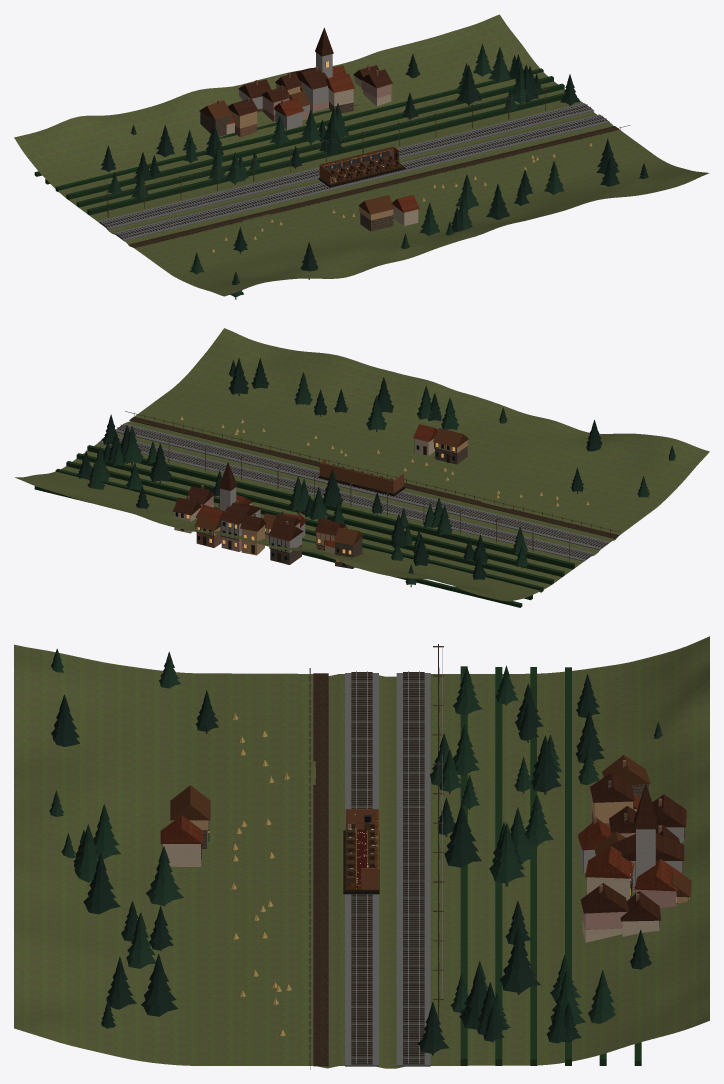
Rendered from passenger_car.glb.
3 renders of one model, top to bottom at view 1: azimuth 30°, elevation 25°; view 2: azimuth 150°, elevation 25°; view 3: azimuth 270°, elevation 25°, orthographic. The views are drawn at different scales.
Visible parts, largest first — view 1: Country ground, Country trees, Country track, Country roofs, Country walls, Country ground.001, Country trim, Car shell, Furniture; view 2: Country ground, Country trees, Country track, Country roofs, Country walls, Country trim, Country ground.001, Car shell; view 3: Country ground, Country trees, Country track, Country roofs, Country ground.001, Country walls, Country trim, Car shell, Furniture.
Boxes of the visible parts, x1=… form: Country ground: x1=14, y1=14, x2=709, y2=296; Country trees: x1=34, y1=44, x2=648, y2=299; Country track: x1=98, y1=103, x2=609, y2=240; Country roofs: x1=199, y1=27, x2=419, y2=214; Country walls: x1=200, y1=52, x2=418, y2=231; Country ground.001: x1=129, y1=126, x2=619, y2=247; Country trim: x1=106, y1=61, x2=629, y2=252; Car shell: x1=318, y1=146, x2=405, y2=187; Furniture: x1=323, y1=147, x2=399, y2=183; Country ground: x1=15, y1=328, x2=709, y2=601; Country trees: x1=34, y1=358, x2=675, y2=607; Country track: x1=98, y1=423, x2=609, y2=561; Country roofs: x1=173, y1=424, x2=468, y2=547; Country walls: x1=174, y1=438, x2=467, y2=568; Country trim: x1=125, y1=411, x2=620, y2=566; Country ground.001: x1=129, y1=417, x2=619, y2=538; Car shell: x1=318, y1=459, x2=405, y2=496; Country ground: x1=14, y1=636, x2=709, y2=1068; Country trees: x1=49, y1=648, x2=662, y2=1065; Country track: x1=345, y1=671, x2=430, y2=1066; Country roofs: x1=160, y1=755, x2=691, y2=921; Country ground.001: x1=313, y1=673, x2=328, y2=1066; Country walls: x1=162, y1=784, x2=688, y2=942; Country trim: x1=201, y1=644, x2=689, y2=1069; Car shell: x1=343, y1=809, x2=379, y2=894; Furniture: x1=346, y1=811, x2=377, y2=888.
Size of the model in its own units: 122 by 18.42 by 90.
Materials: 37 (37 with a texture image).
